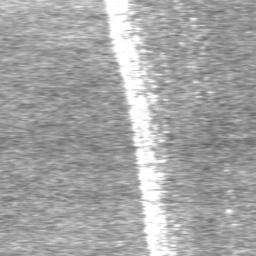Bright scratch: (104, 0, 169, 256)
